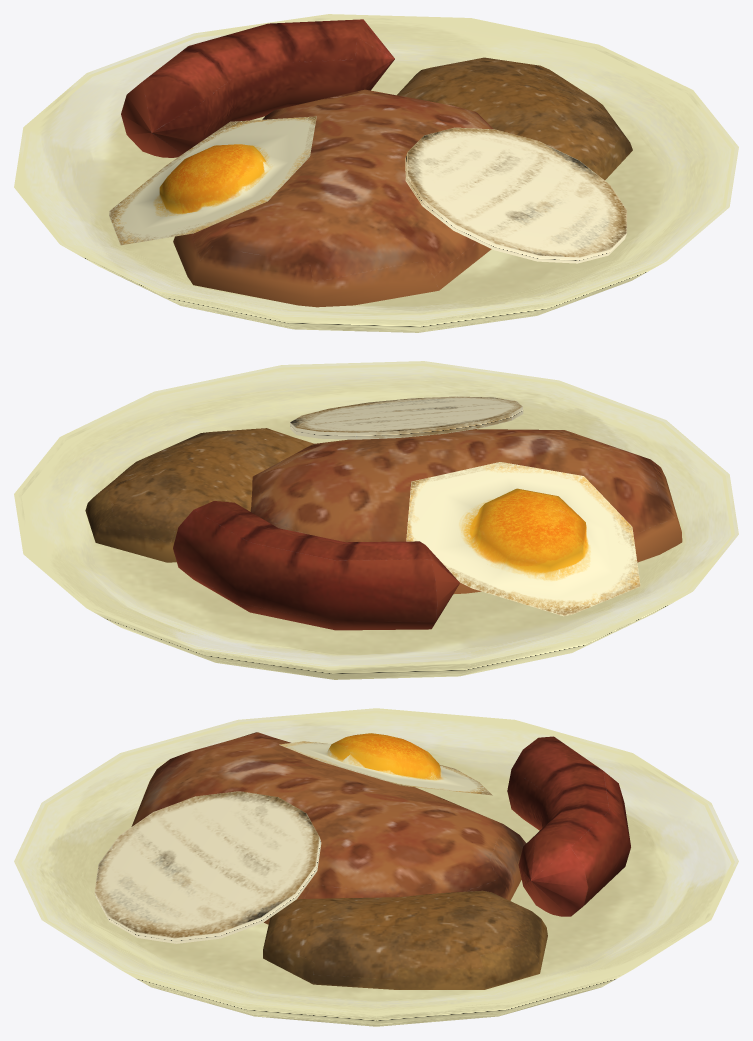
File: Calentado.glb
The picture shows the model from 3 angles, top to bottom: view 1: azimuth 30°, elevation 25°; view 2: azimuth 150°, elevation 25°; view 3: azimuth 270°, elevation 25°; orthographic projection.
Visible parts, largest first — view 1: Cylinder, frijol.001, Torus, Cylinder.001, Sphere, frijol; view 2: Cylinder, frijol.001, Sphere, Torus, frijol, Cylinder.001; view 3: Cylinder, frijol.001, Cylinder.001, frijol, Torus, Sphere.
Boxes of the visible parts, x1=… form: Cylinder: x1=14, y1=14, x2=738, y2=332; frijol.001: x1=173, y1=89, x2=493, y2=307; Torus: x1=121, y1=19, x2=394, y2=157; Cylinder.001: x1=405, y1=127, x2=627, y2=263; Sphere: x1=109, y1=116, x2=316, y2=245; frijol: x1=397, y1=57, x2=632, y2=180; Cylinder: x1=14, y1=361, x2=738, y2=679; frijol.001: x1=250, y1=429, x2=682, y2=594; Sphere: x1=406, y1=462, x2=640, y2=616; Torus: x1=173, y1=501, x2=459, y2=630; frijol: x1=85, y1=428, x2=313, y2=562; Cylinder.001: x1=290, y1=396, x2=523, y2=439; Cylinder: x1=14, y1=708, x2=738, y2=1026; frijol.001: x1=131, y1=732, x2=526, y2=924; Cylinder.001: x1=94, y1=791, x2=321, y2=943; frijol: x1=263, y1=890, x2=547, y2=989; Torus: x1=507, y1=736, x2=630, y2=916; Sphere: x1=279, y1=733, x2=492, y2=795.
Bounding box in the file's own units: 4.85 × 0.6714 × 4.85.
Materials: 6 (6 with a texture image).
